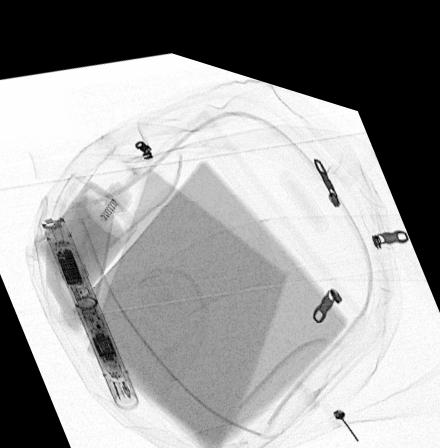Baton: (38, 211, 142, 404)
